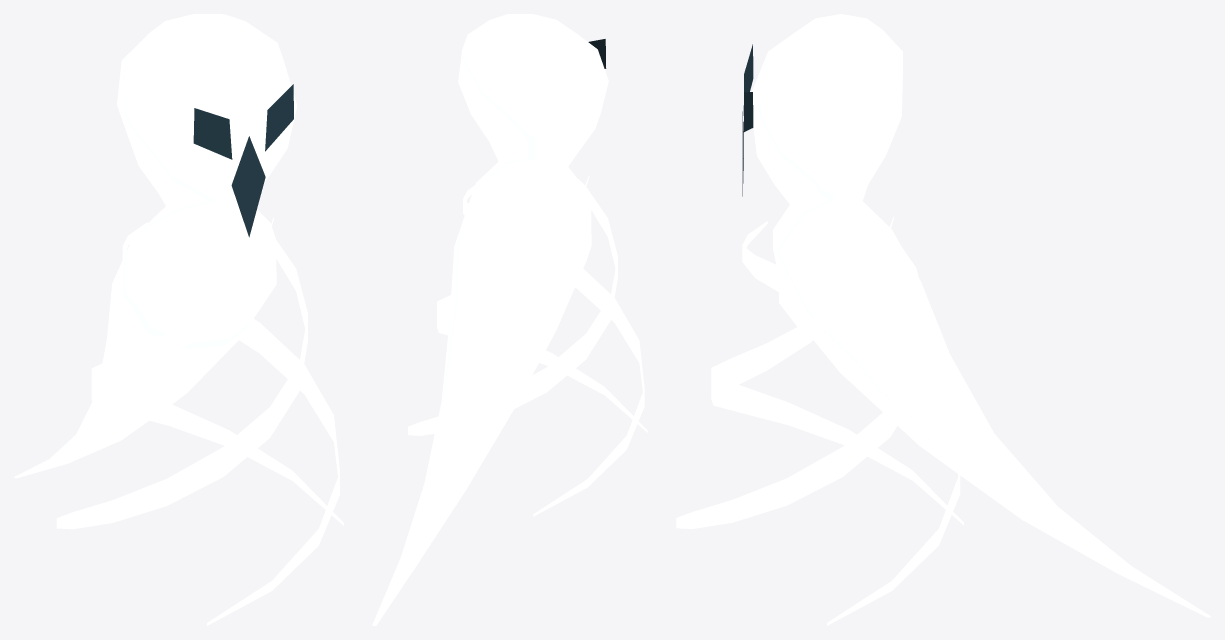
File: soul.glb
3 renders of one model, left to right at view 1: azimuth 30°, elevation 25°; view 2: azimuth 150°, elevation 25°; view 3: azimuth 270°, elevation 25°, orthographic. The views are drawn at different scales.
Visible parts, largest first — view 1: SpectralBody, OuterWisps, FaceHint, SoulCore; view 2: SpectralBody, OuterWisps; view 3: SpectralBody, OuterWisps, FaceHint.
Part boxes in pixels (box(x1,y1,x2,y2)): SpectralBody: box(14, 14, 297, 478); OuterWisps: box(56, 217, 343, 625); FaceHint: box(193, 84, 293, 237); SoulCore: box(203, 292, 257, 336); SpectralBody: box(372, 14, 608, 625); OuterWisps: box(408, 175, 647, 516); SpectralBody: box(752, 14, 1210, 617); OuterWisps: box(676, 216, 963, 625); FaceHint: box(742, 44, 753, 196).
Bounding box in the file's own units: 1.06 × 2.3 × 1.89.
